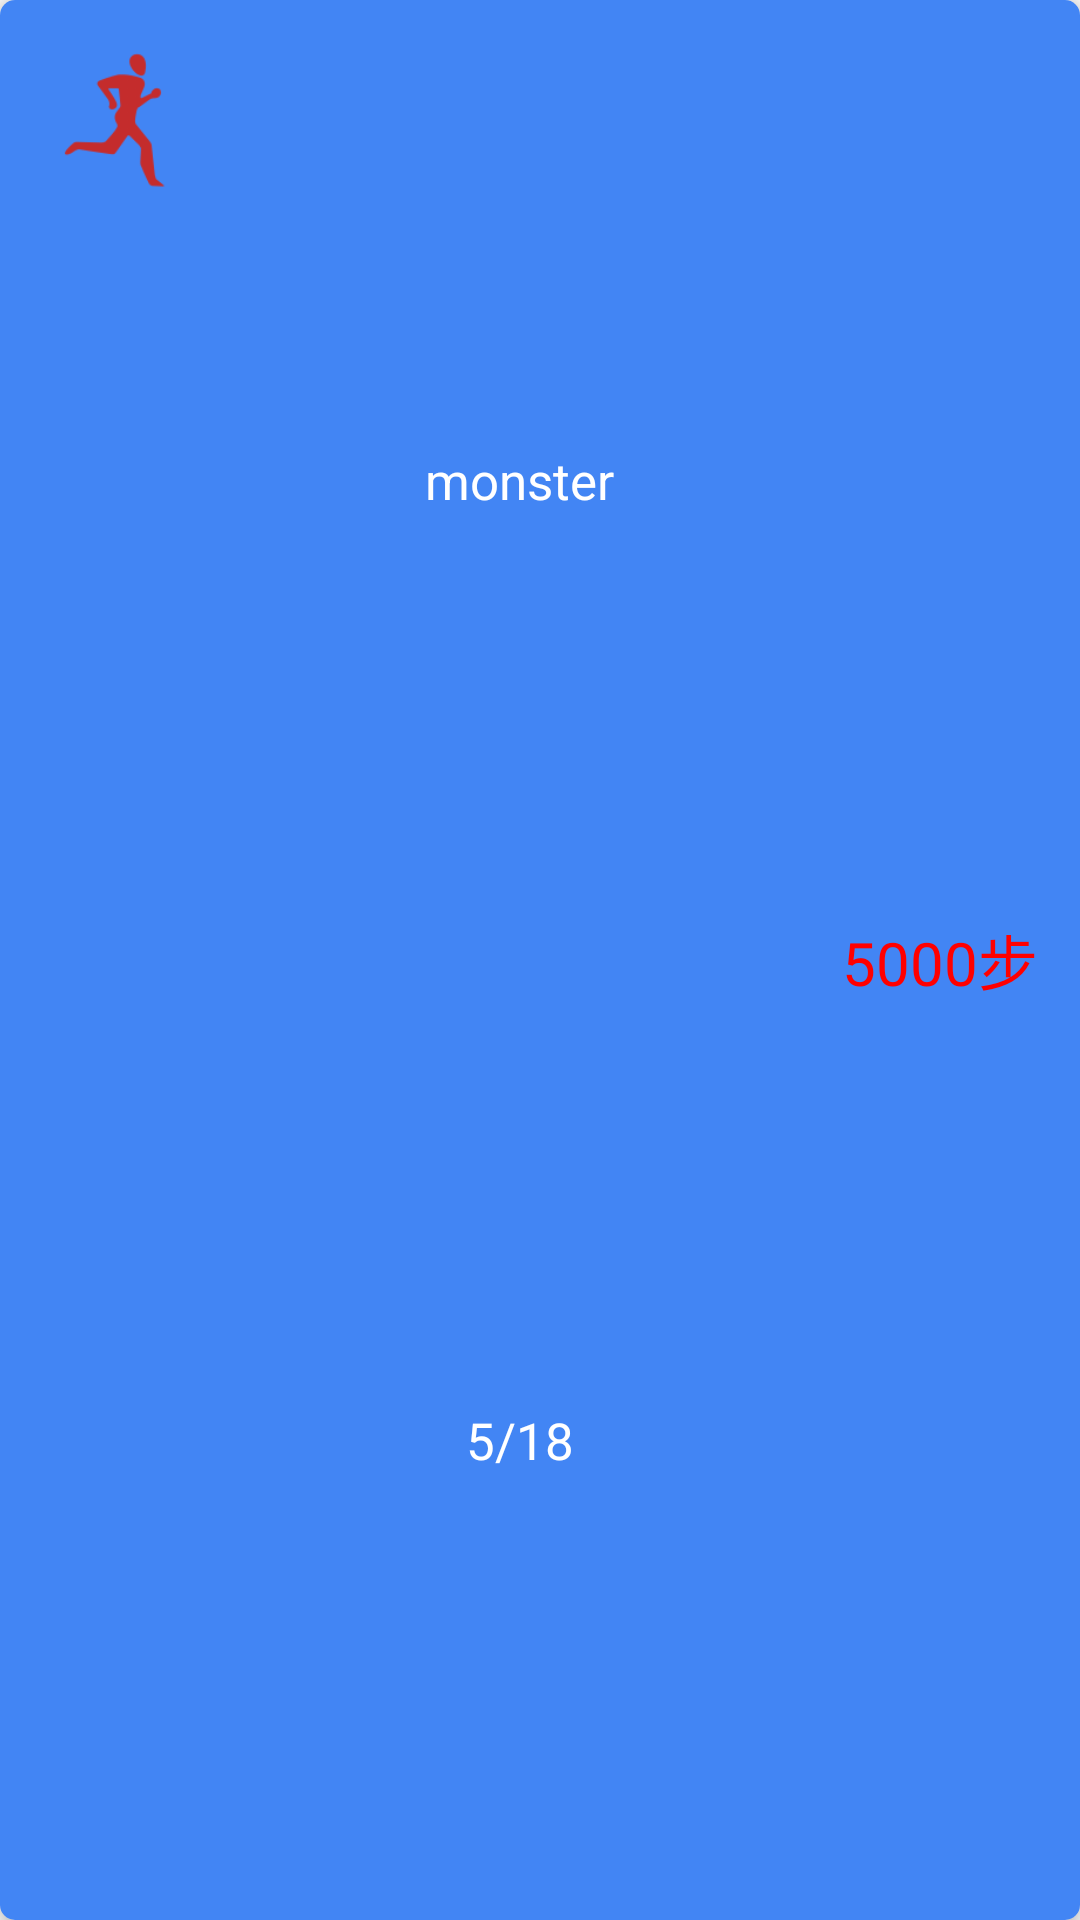

Point at icon controls on the screen. Image size 1080 × 1920, points as point (x, y).
run: point (114, 120)
